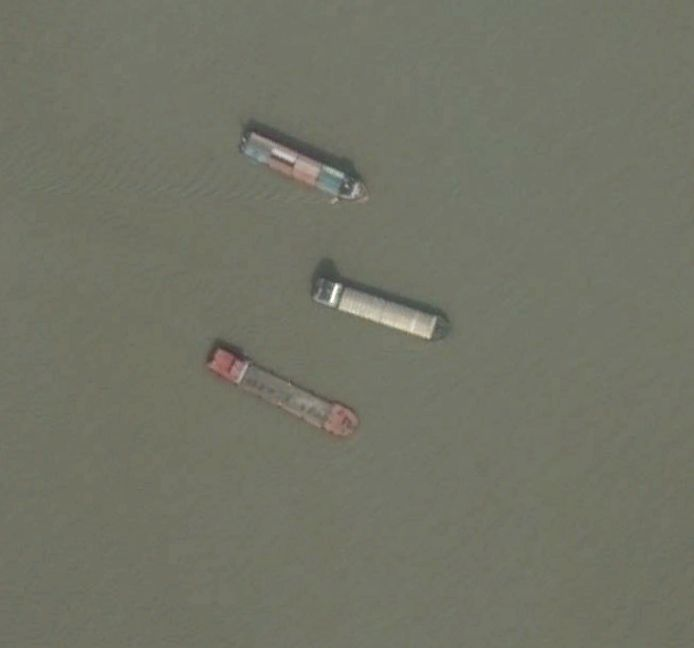boat: (204, 345, 362, 440), (308, 271, 454, 345), (235, 127, 370, 207)
